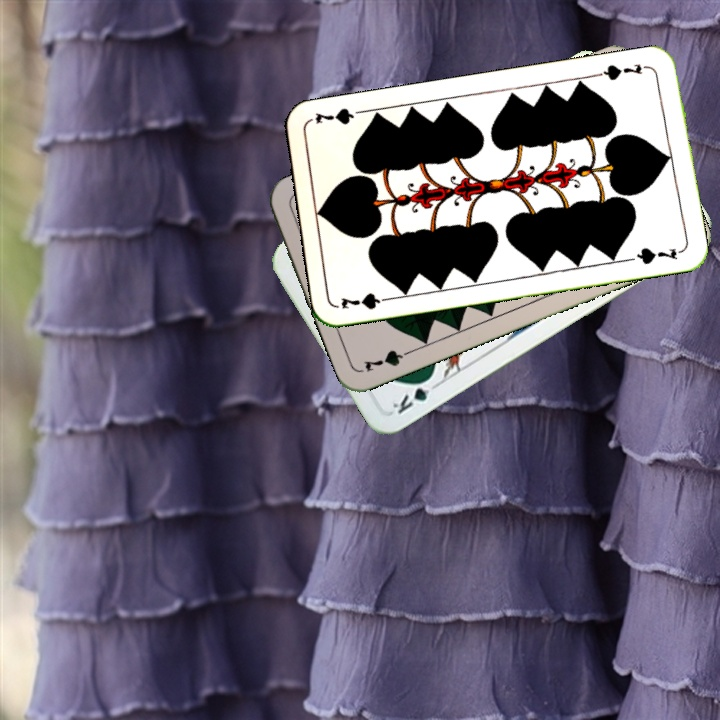G7: (359, 344, 417, 375), (337, 288, 396, 312), (594, 59, 653, 83)
GK: (388, 372, 442, 417)
